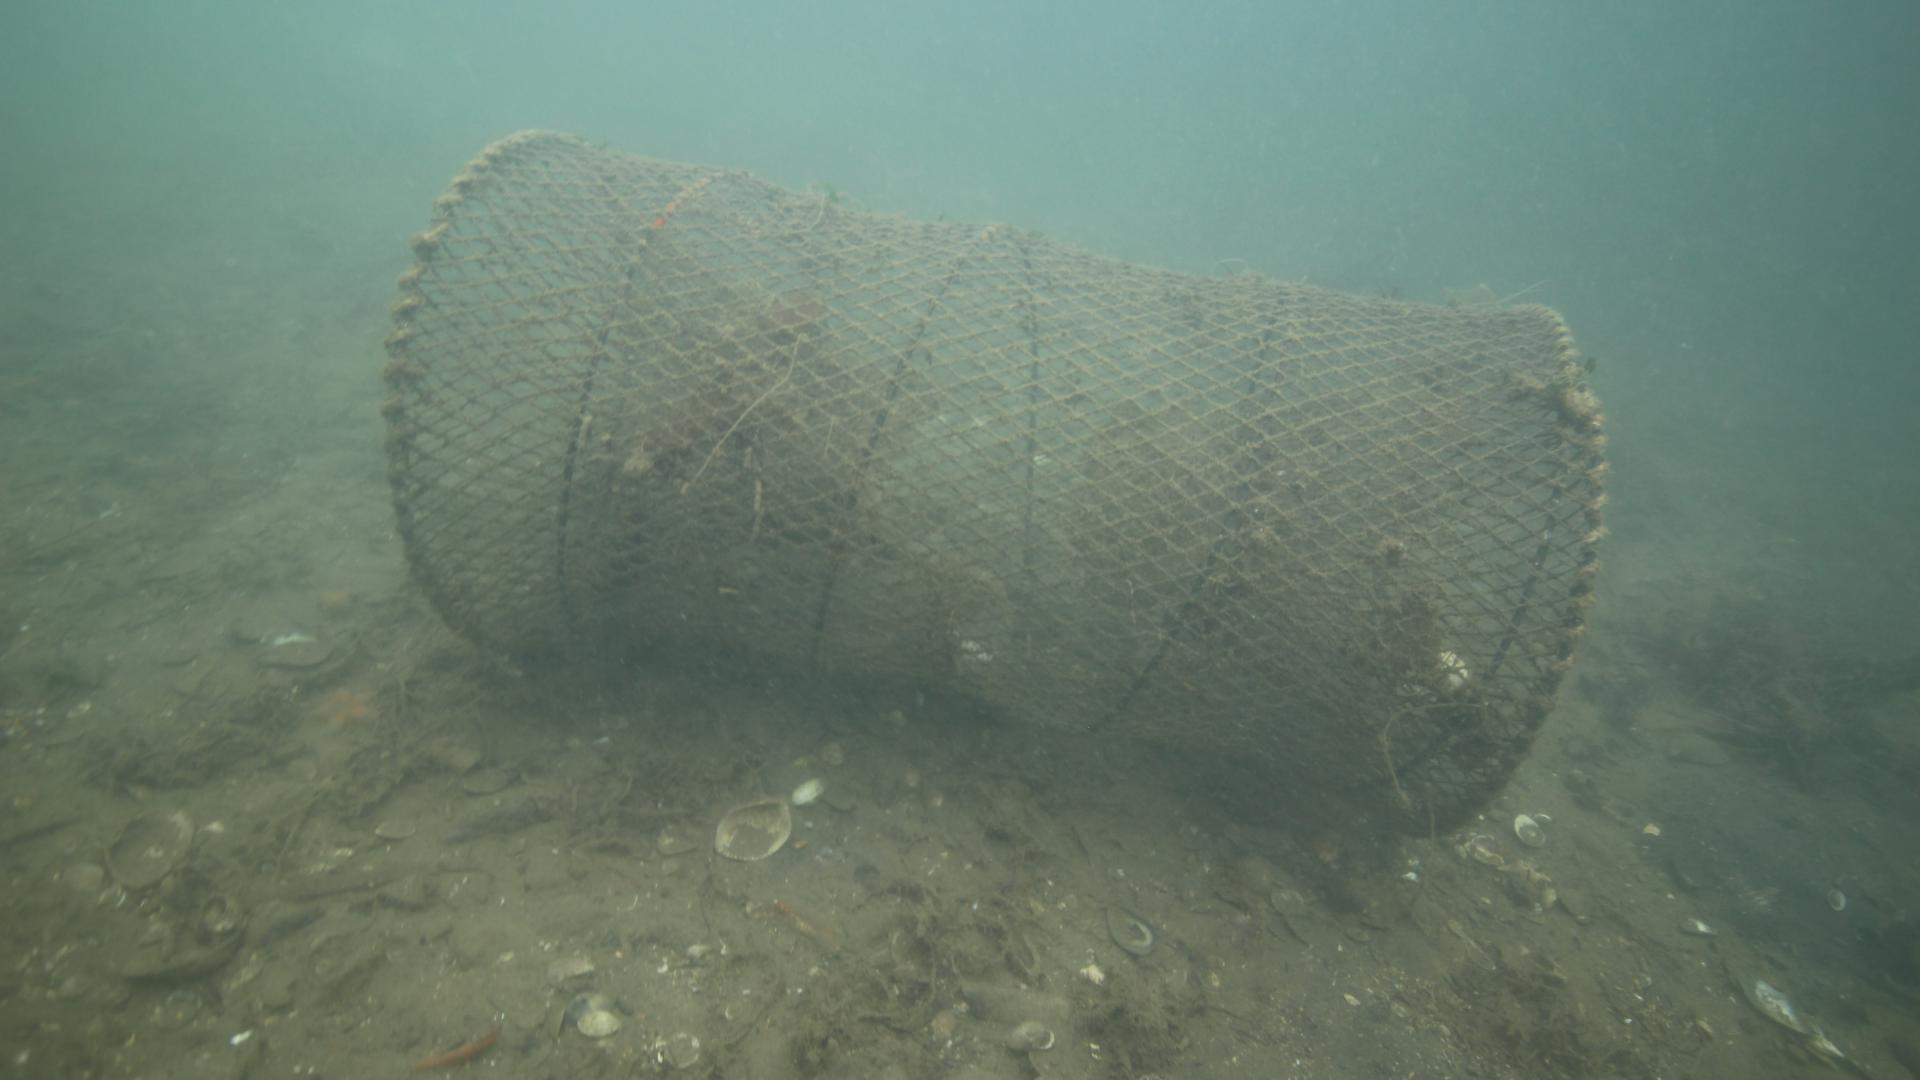spring fish trap: (378, 124, 1604, 840)
